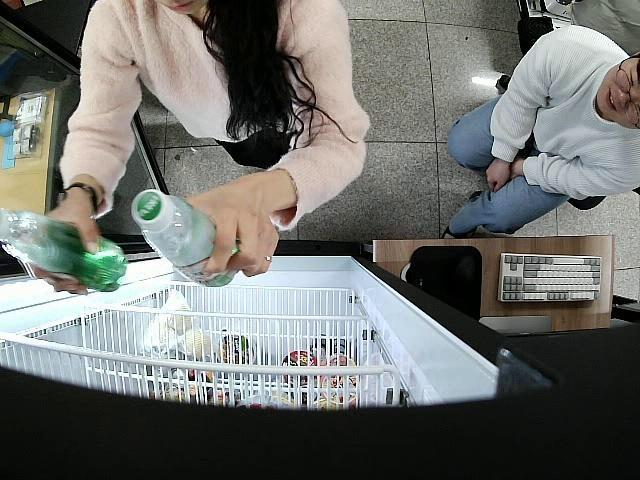18_trevi: (0, 207, 126, 294), (131, 190, 242, 288)
